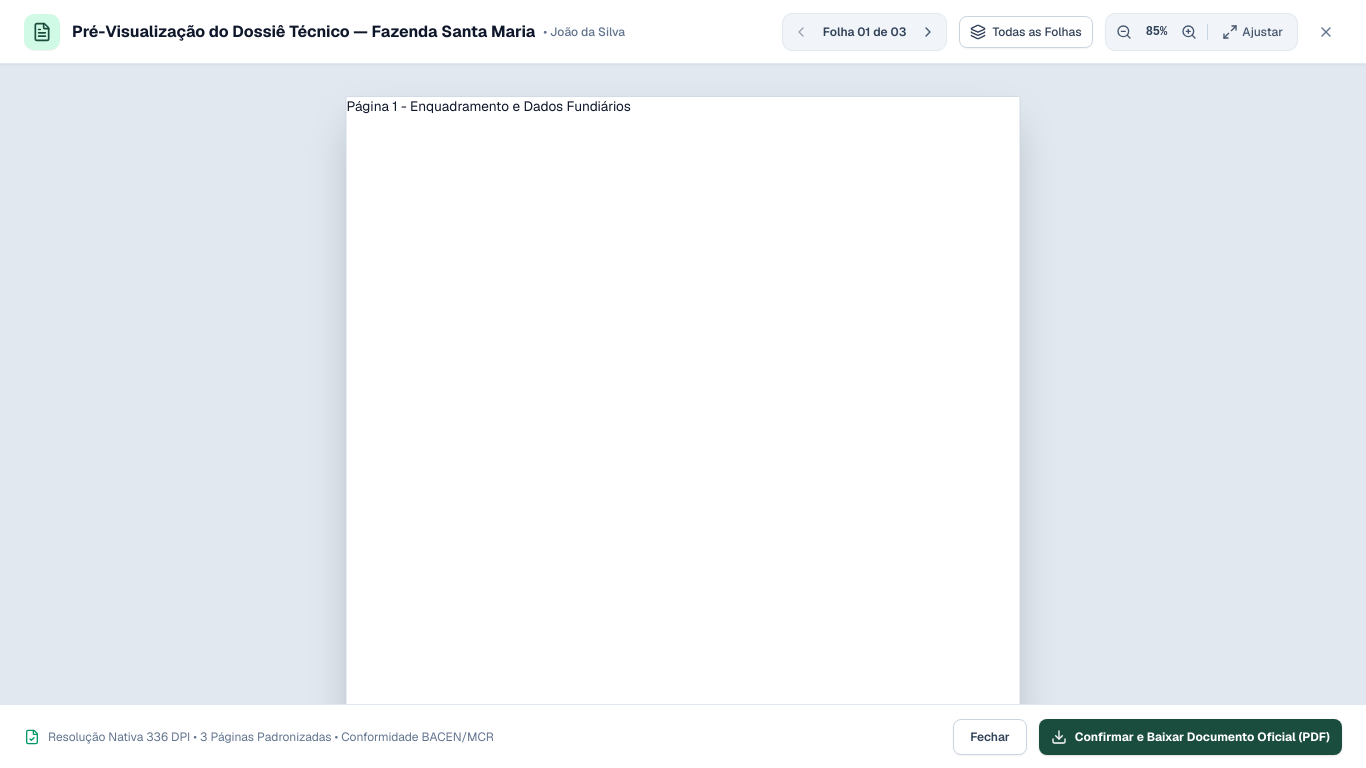
Scenario: UniversalDocumentPreviewModal - Componente Modular de Pré-Visualização › deve navegar entre as folhas usando os botões de paginação
This screenshot has width=1366, height=768.
expect the text "Folha 01 de 03" is shown: met, box 823,24 -> 906,40
expect the text "Página 1 - Enquadramento e Dados Fundiários" is shown: met, box 346,98 -> 631,116
// Avança para a página 2
Click the button titled "Próxima Página (Seta Direita)".
click(928, 32)  # box 914,18 -> 942,46
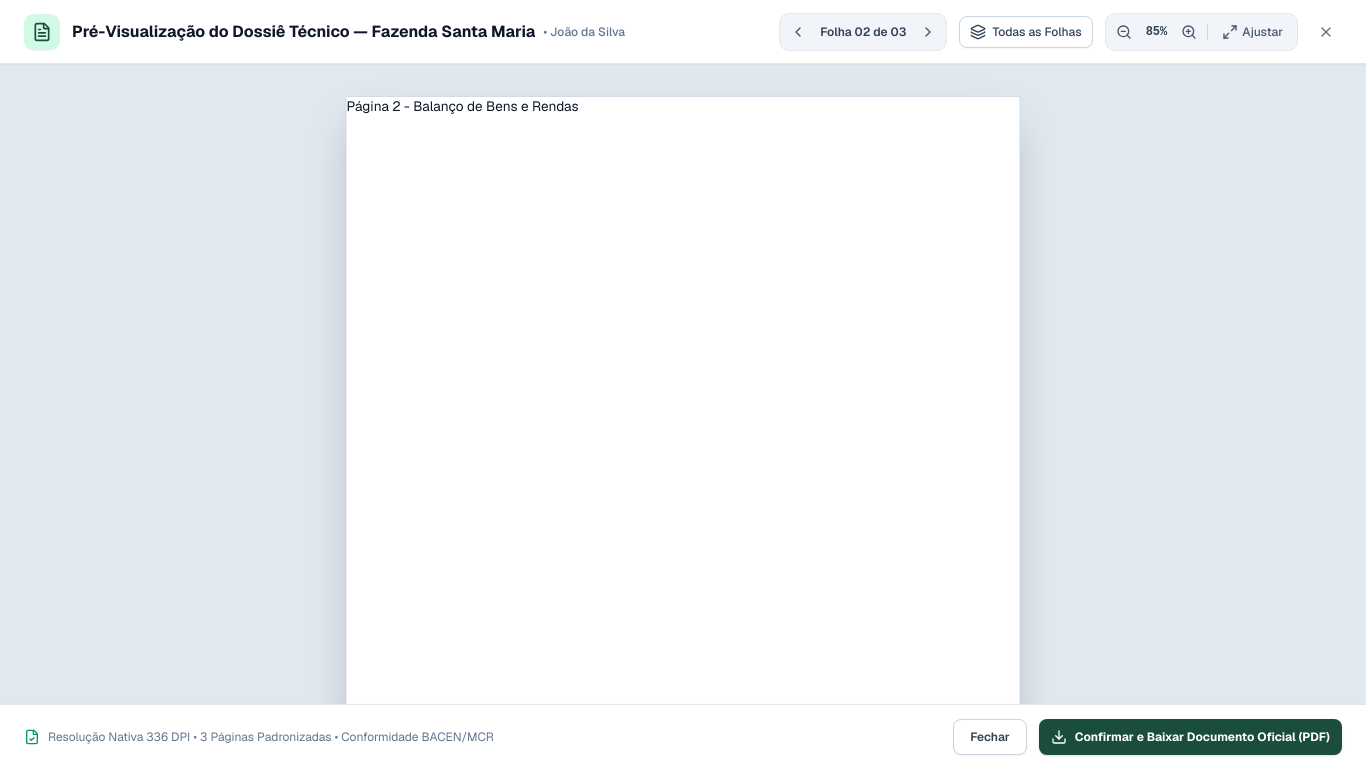
expect the text "Folha 02 de 03" is shown: met, box 820,24 -> 906,40
expect the text "Página 2 - Balanço de Bens e Rendas" is shown: met, box 346,98 -> 579,116
// Volta para a página 1
Click the button titled "Página Anterior (Seta Esquerda)".
click(798, 32)  # box 784,18 -> 812,46
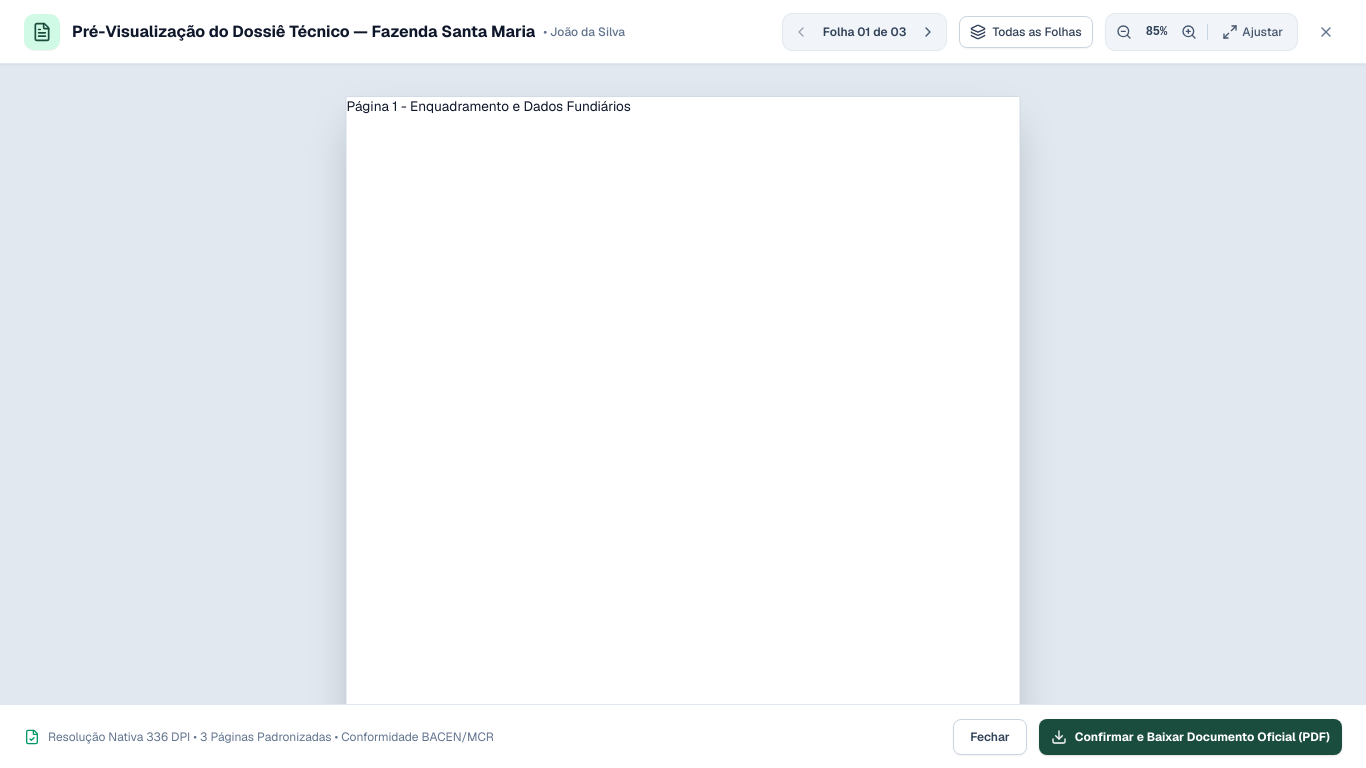
expect the text "Folha 01 de 03" is shown: met, box 823,24 -> 906,40
expect the text "Página 1 - Enquadramento e Dados Fundiários" is shown: met, box 346,98 -> 631,116
